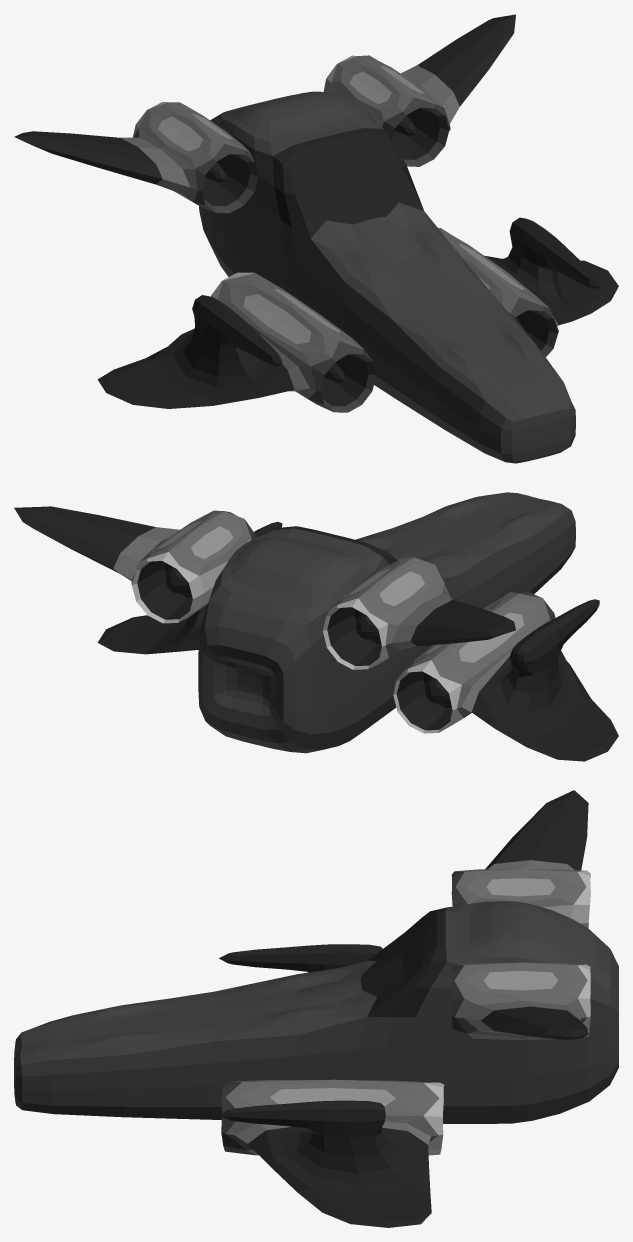
The model's file is shipL2.gltf.
3 views of the same model, one above another, from view 1: azimuth 30°, elevation 25°; view 2: azimuth 150°, elevation 25°; view 3: azimuth 270°, elevation 25° (orthographic).
Parts seen in each view (by area): view 1: Cube; view 2: Cube; view 3: Cube.
Part boxes in pixels (x1,y1,x2,y2): Cube: (14, 14, 618, 463); Cube: (14, 492, 618, 761); Cube: (14, 790, 618, 1227).
Size of the model in its own units: 0.4871 by 0.1789 by 0.5033.
Materials: 2 (2 with a texture image).
